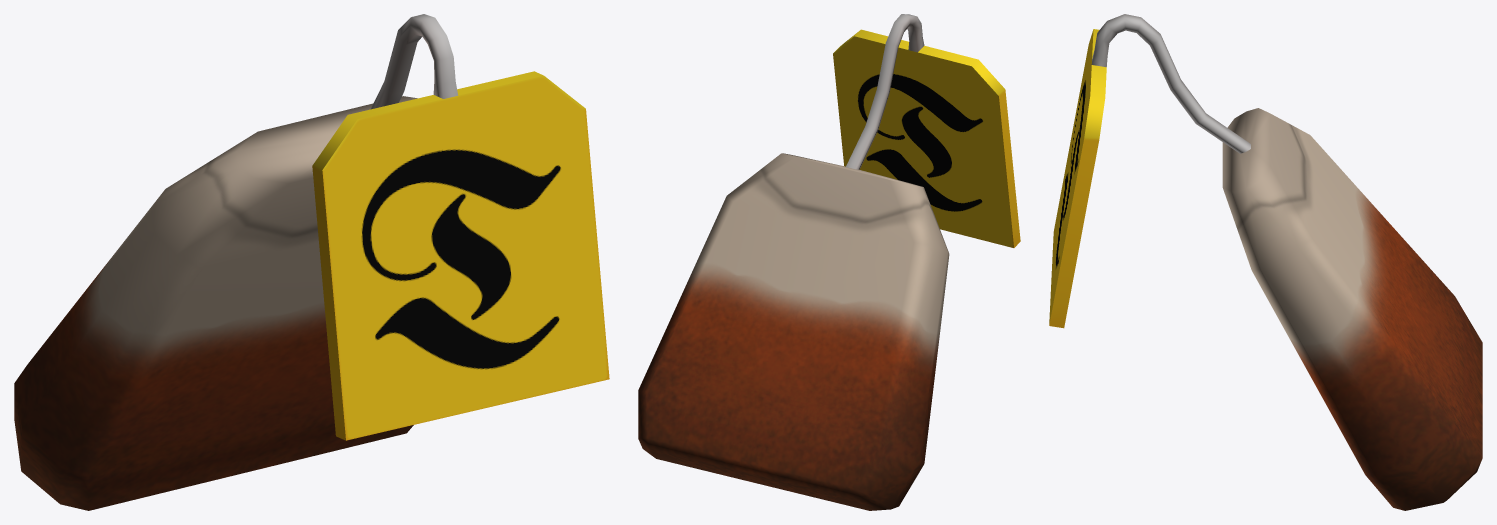
File: Teacup_02_TeaBag_03.fbx
3 renders of one model, left to right at view 1: azimuth 30°, elevation 25°; view 2: azimuth 150°, elevation 25°; view 3: azimuth 270°, elevation 25°, orthographic. The views are drawn at different scales.
Visible parts, largest first — view 1: Teacup_02_TeaBag_03; view 2: Teacup_02_TeaBag_03; view 3: Teacup_02_TeaBag_03.
Part boxes in pixels (x1,y1,x2,y2): Teacup_02_TeaBag_03: (14, 14, 609, 510); Teacup_02_TeaBag_03: (638, 14, 1020, 510); Teacup_02_TeaBag_03: (1049, 14, 1482, 510).
Bounding box in the file's own units: 16.07 × 21.12 × 19.05.
